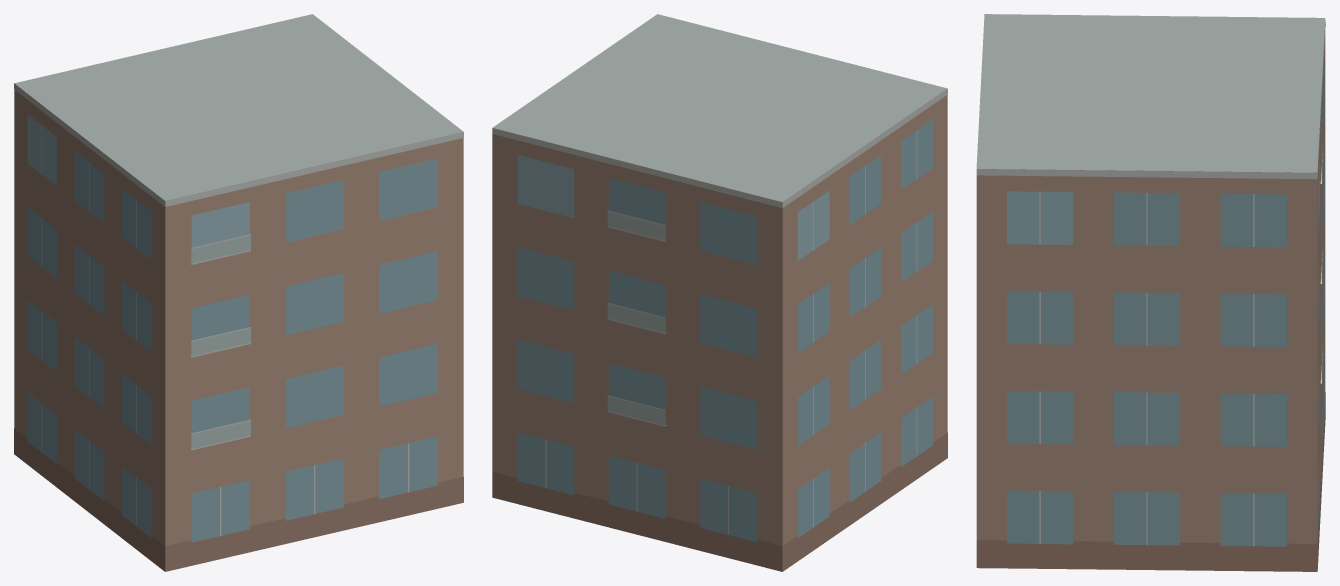
The model's file is survey-upis-32783443.glb.
The picture shows the model from 3 angles, left to right: view 1: azimuth 30°, elevation 25°; view 2: azimuth 150°, elevation 25°; view 3: azimuth 270°, elevation 25°; orthographic projection. The views are drawn at different scales.
Visible parts, largest first — view 1: survey-upis-32783443.tmp; view 2: survey-upis-32783443.tmp; view 3: survey-upis-32783443.tmp.
Part boxes in pixels (x1,y1,x2,y2): survey-upis-32783443.tmp: (14, 14, 463, 571); survey-upis-32783443.tmp: (492, 14, 947, 571); survey-upis-32783443.tmp: (976, 14, 1325, 571).
Size of the model in its own units: 12.77 by 14.96 by 11.87.
